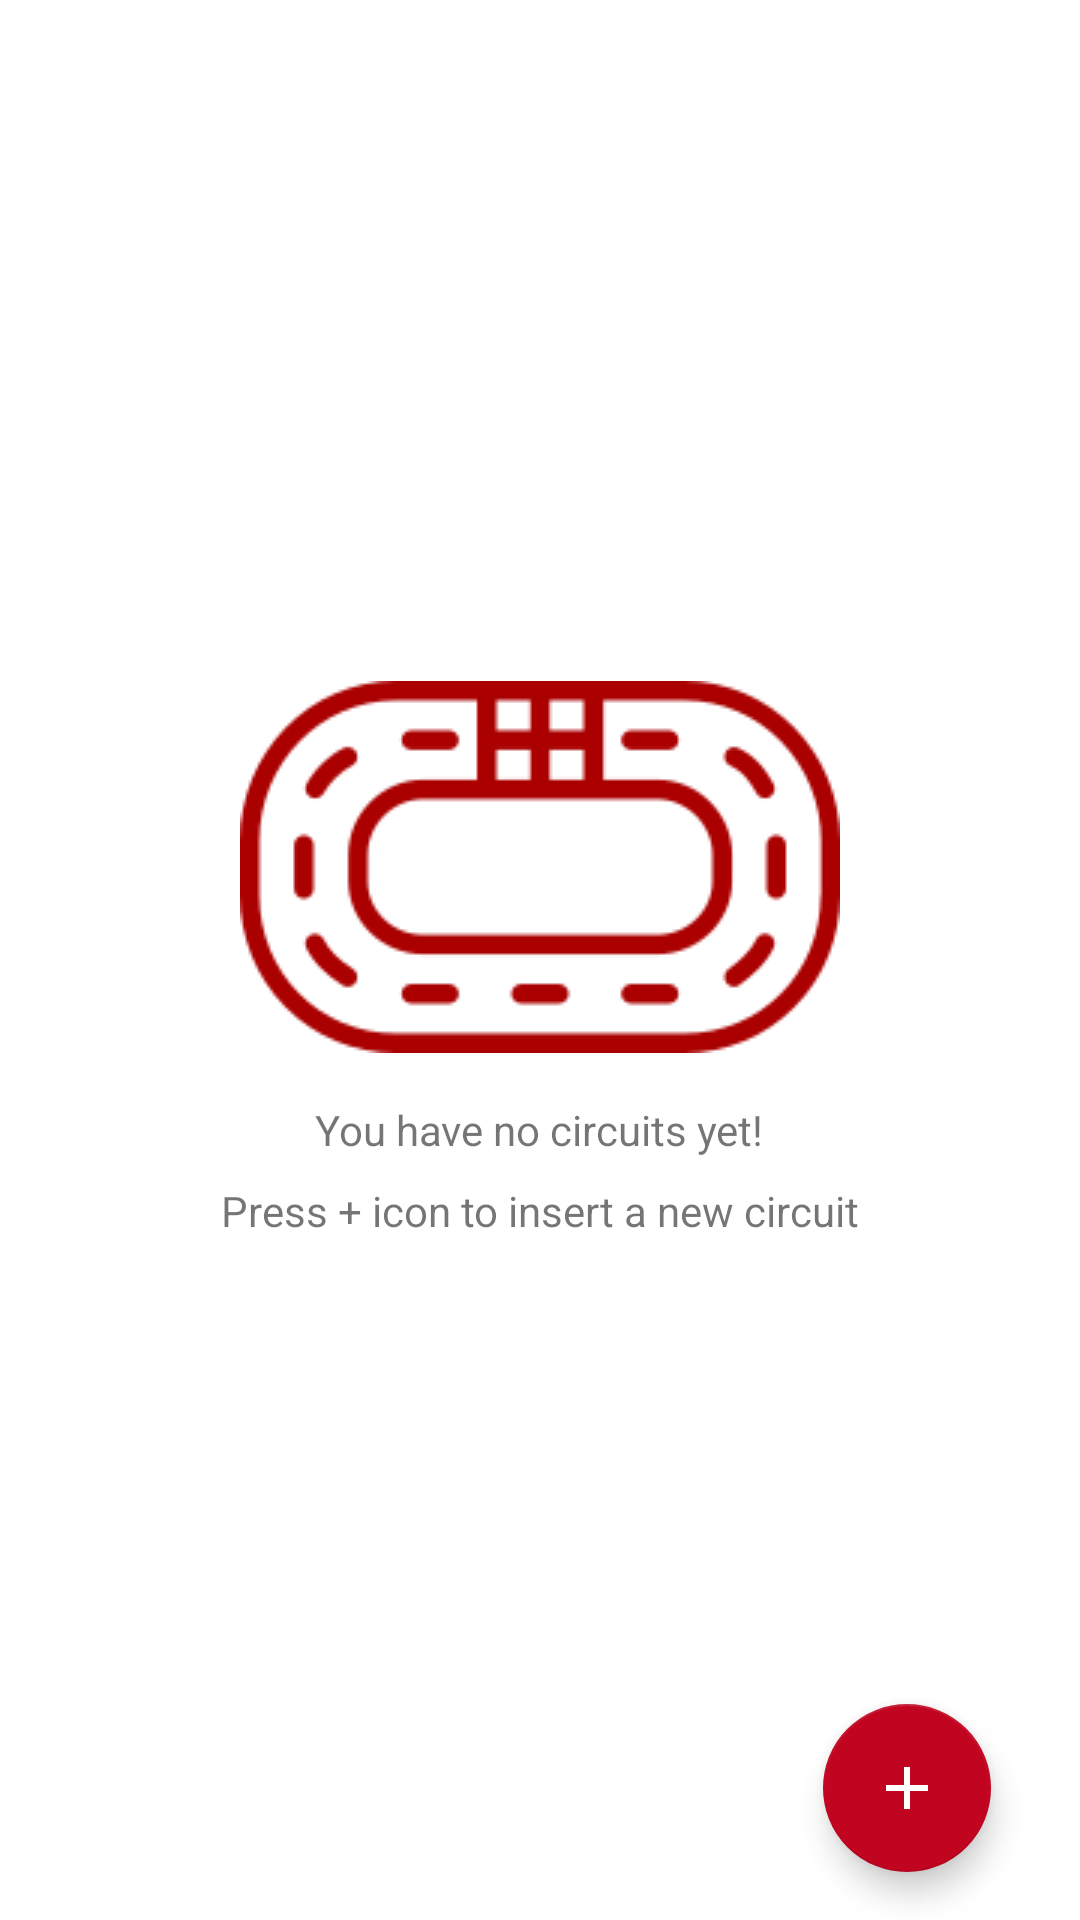

Named icons in this screenshot (1080px×1920px) and their centers, [x,y]:
add: [907,1788]
